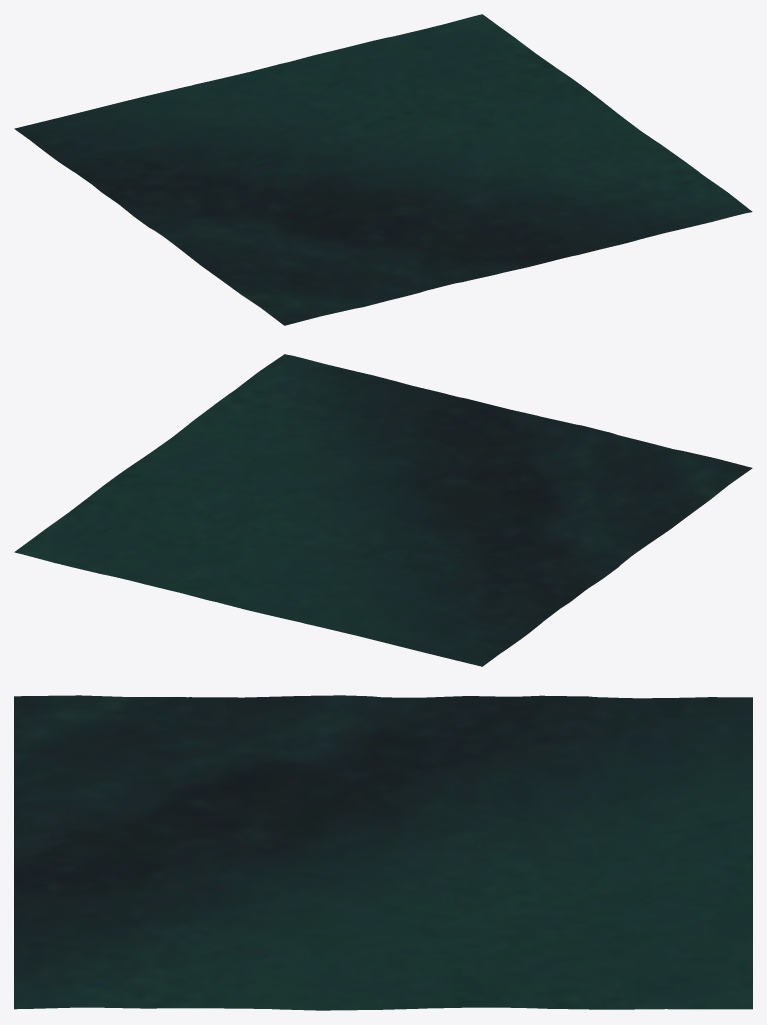
The picture shows the model from 3 angles, top to bottom: view 1: azimuth 30°, elevation 25°; view 2: azimuth 150°, elevation 25°; view 3: azimuth 270°, elevation 25°; orthographic projection. The views are drawn at different scales.
Size of the model in its own units: 52.22 by 0.4009 by 52.22.
3 materials, 3 textured.
